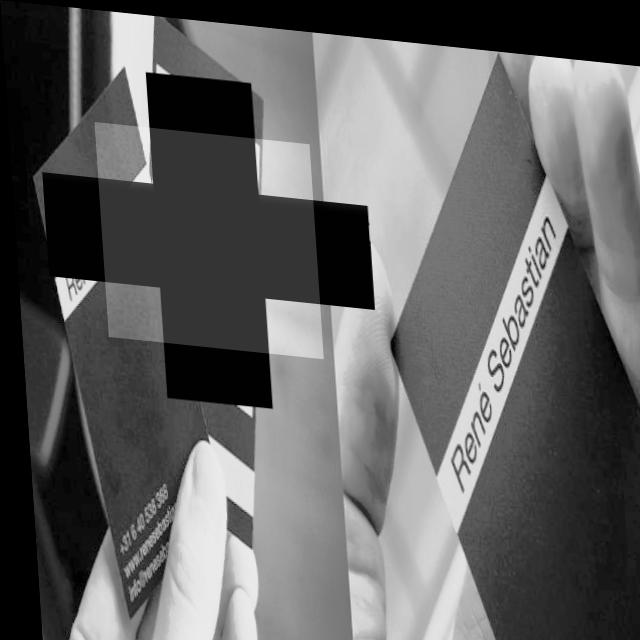qr_code: (93, 120, 319, 353)
